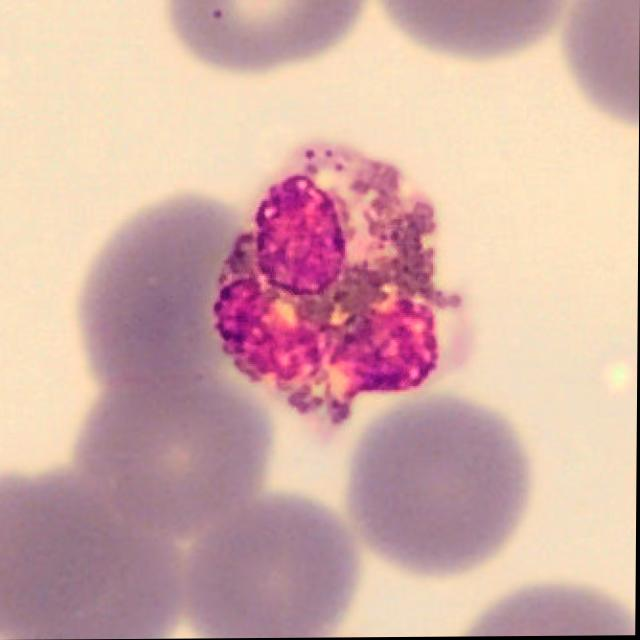Eosinofilo: (211, 147, 464, 423)
